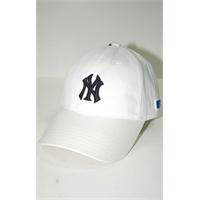hat: (39, 43, 162, 162)
